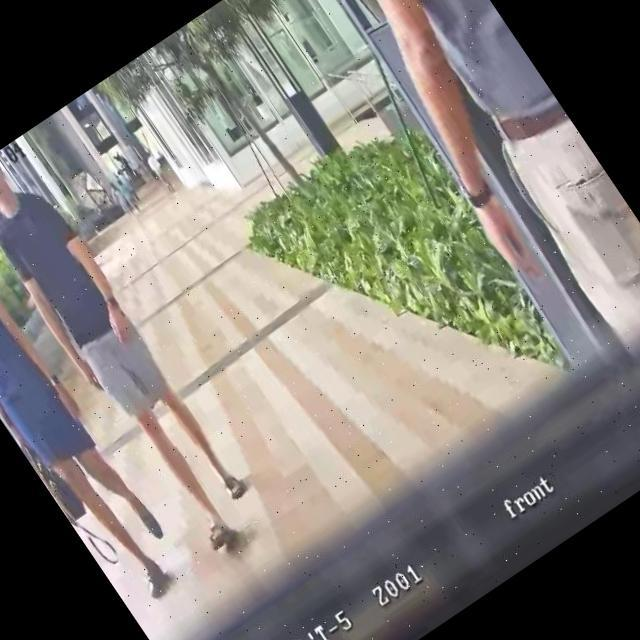person: (294, 0, 640, 380), (0, 139, 272, 563), (0, 192, 194, 615), (142, 147, 178, 196), (111, 169, 145, 213), (106, 178, 138, 220), (115, 152, 139, 182)
